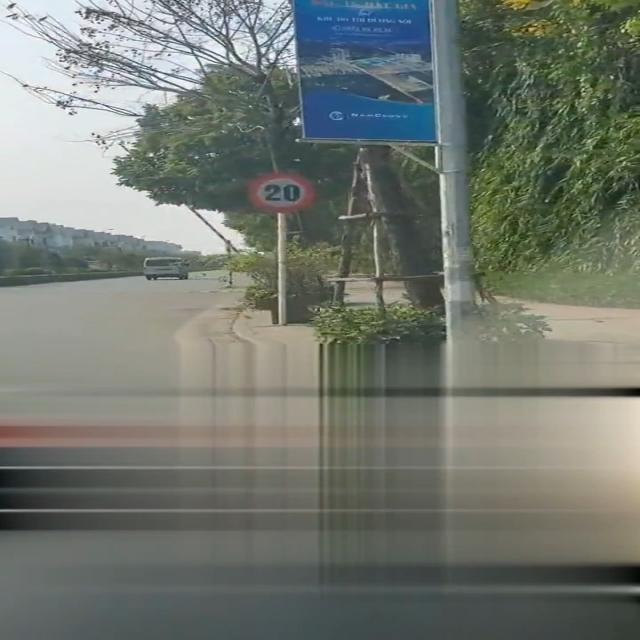127-toc-do-toi-da-20: (249, 170, 315, 214)
